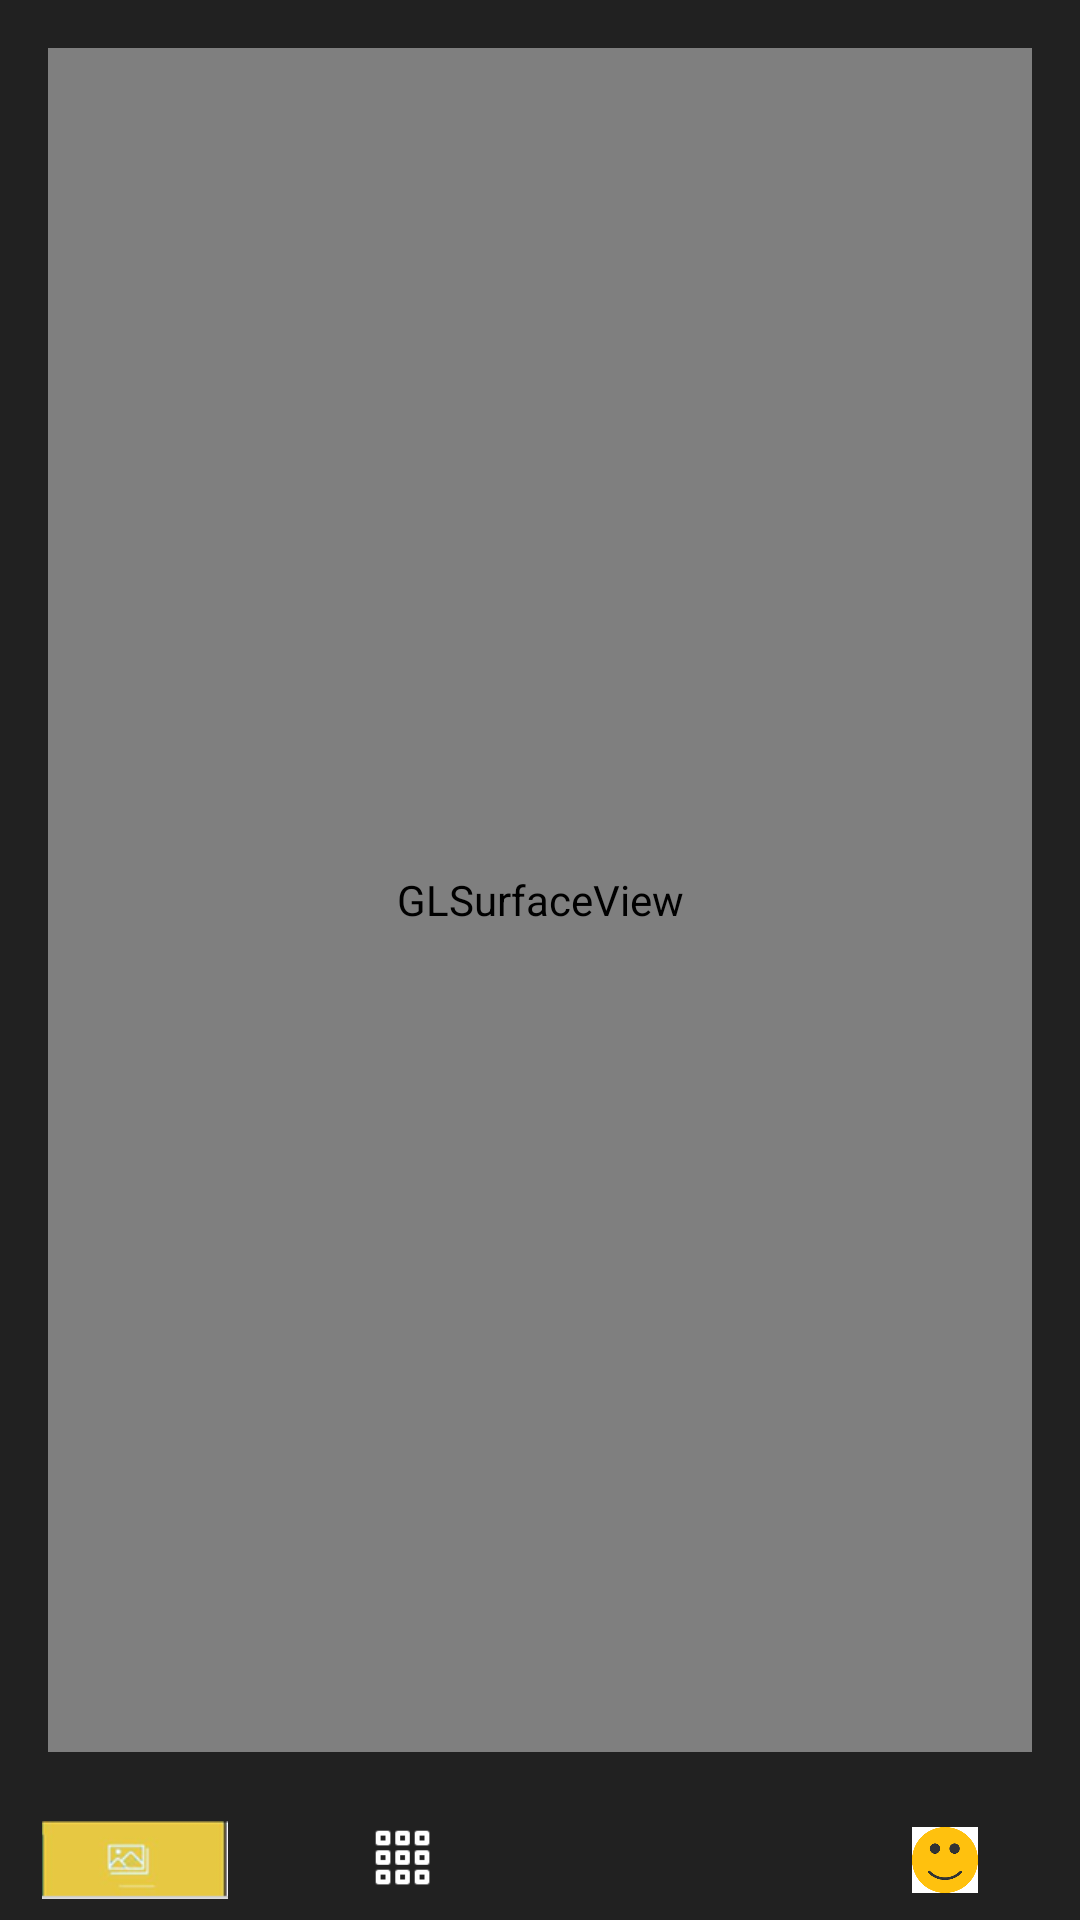

Icon click points for this 1080 x 1920 phone screenshot, format (x=x, y=y):
smiley: (x=945, y=1860)
